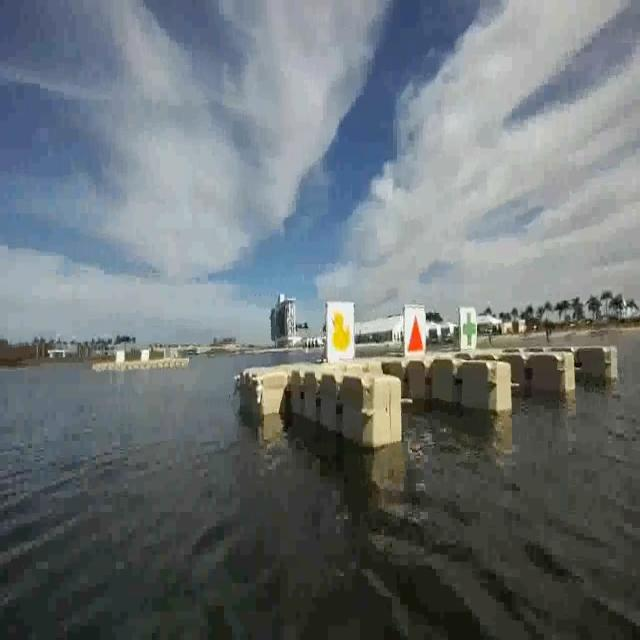blue-cross: (461, 305, 477, 353)
red-dot: (402, 306, 426, 362)
yellow-duck: (331, 308, 352, 352)
